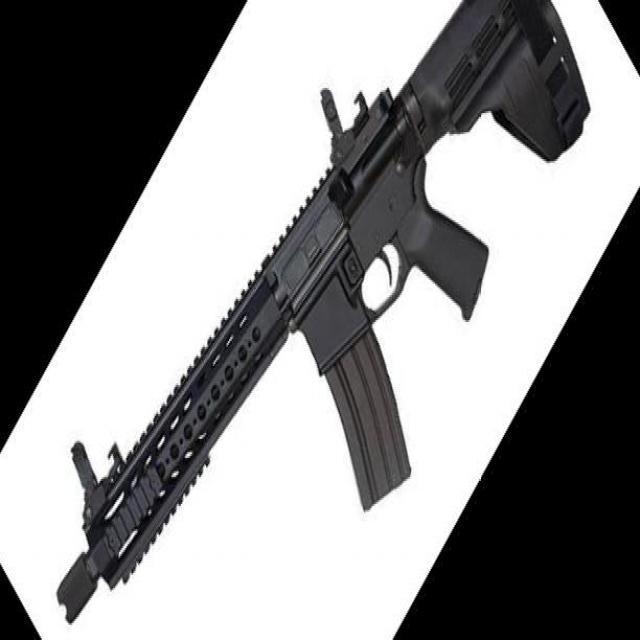weapon: (57, 1, 590, 625)
